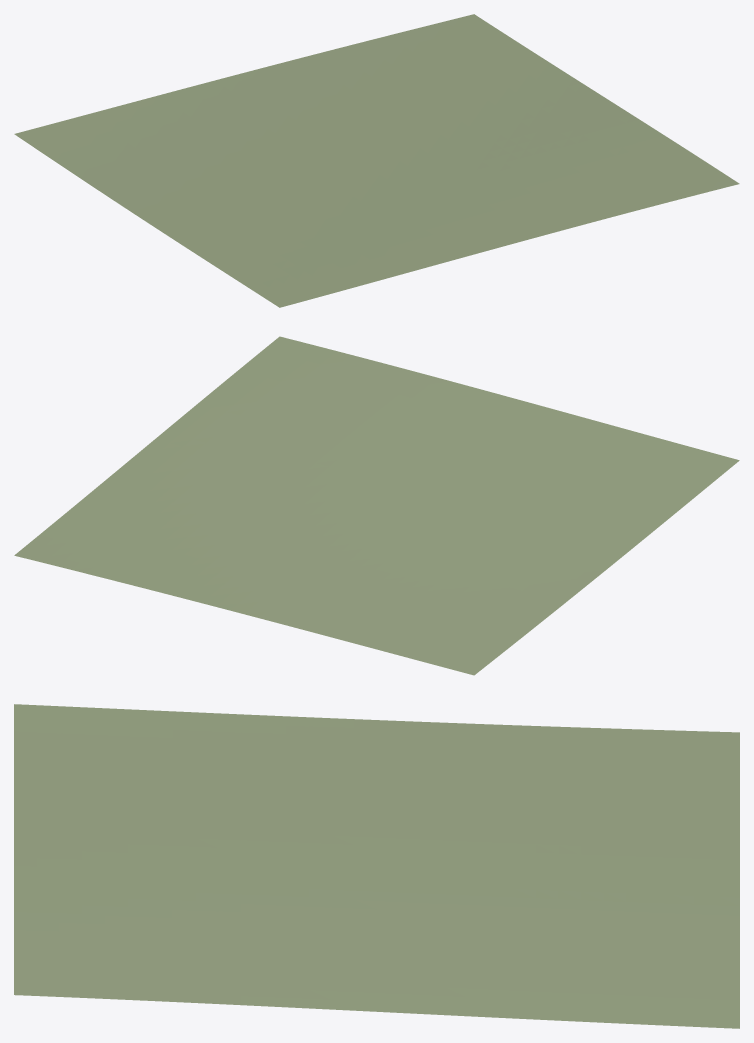
File: expanse-6-10.glb
The picture shows the model from 3 angles, top to bottom: view 1: azimuth 30°, elevation 25°; view 2: azimuth 150°, elevation 25°; view 3: azimuth 270°, elevation 25°; orthographic projection. The views are drawn at different scales.
Visible parts, largest first — view 1: expanse-6-10; view 2: expanse-6-10; view 3: expanse-6-10.
Boxes of the visible parts, x1=… form: expanse-6-10: x1=14, y1=14, x2=739, y2=307; expanse-6-10: x1=14, y1=336, x2=739, y2=675; expanse-6-10: x1=14, y1=704, x2=739, y2=1028.
Bounding box in the file's own units: 256 × 17.16 × 256.
